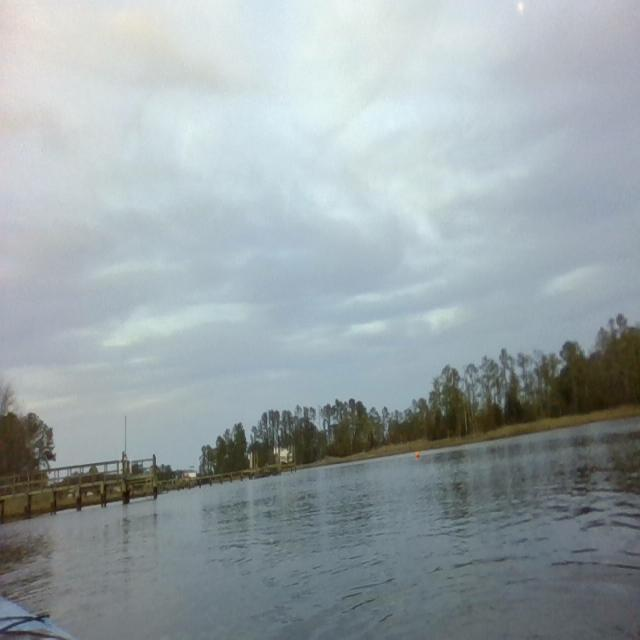Buoy: (414, 449, 421, 460)
